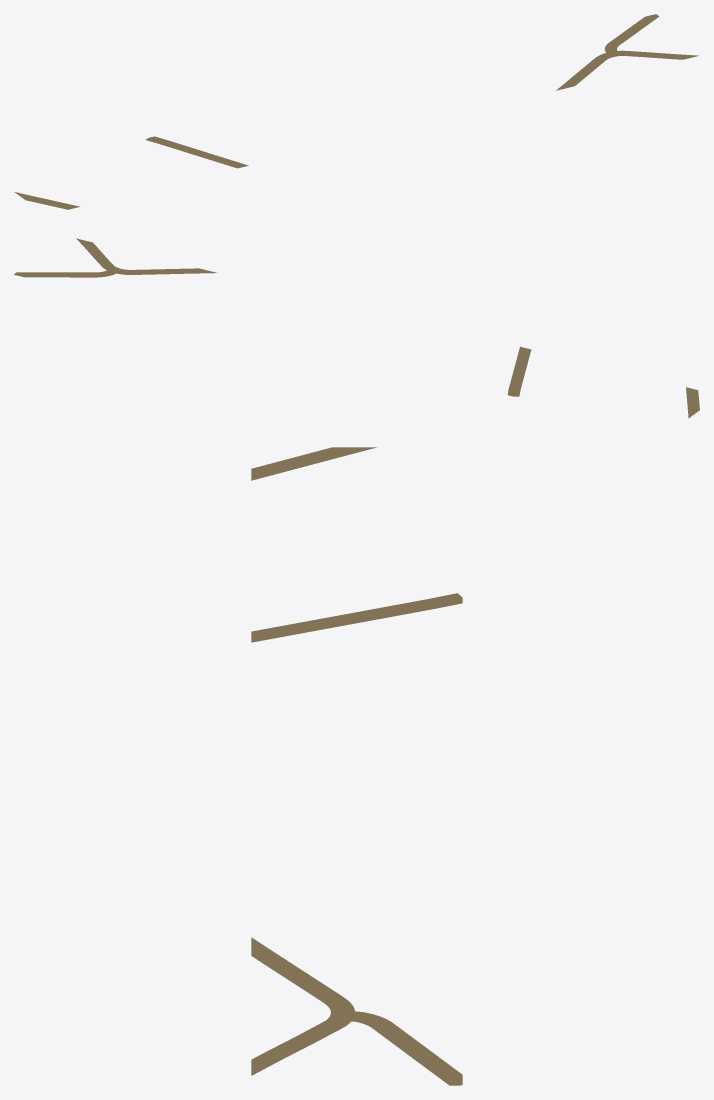
File: Ulice_2_4.fbx
3 views of the same model, one above another, from view 1: azimuth 30°, elevation 25°; view 2: azimuth 150°, elevation 25°; view 3: azimuth 270°, elevation 25° (orthographic). The views are drawn at different scales.
Visible parts, largest first — view 1: Ulica_2_4; view 2: Ulica_2_4; view 3: Ulica_2_4.
Part boxes in pixels (box(x1,y1,x2,y2)): Ulica_2_4: box(14, 14, 698, 209); Ulica_2_4: box(14, 238, 699, 417); Ulica_2_4: box(251, 447, 462, 1085).
Bounding box in the file's own units: 500 × 1.14e-05 × 70.
